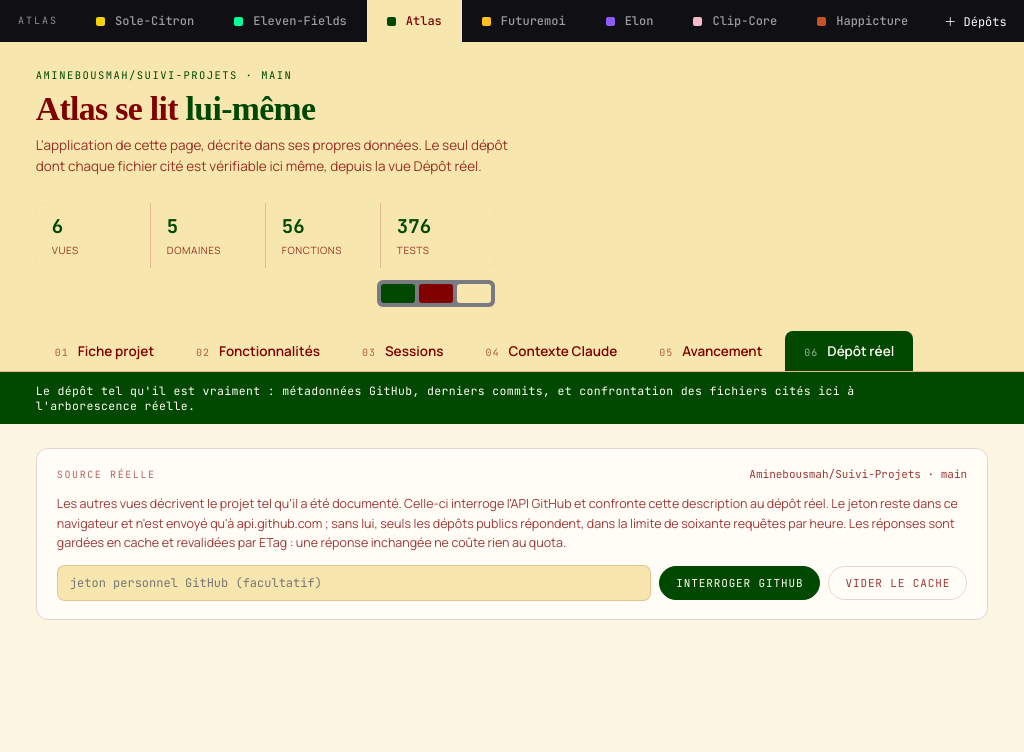
Scenario: vue Dépôt réel › montre ce que GitHub répond
Click the button "Interroger GitHub" at (740, 584), box [659,566,820,600]
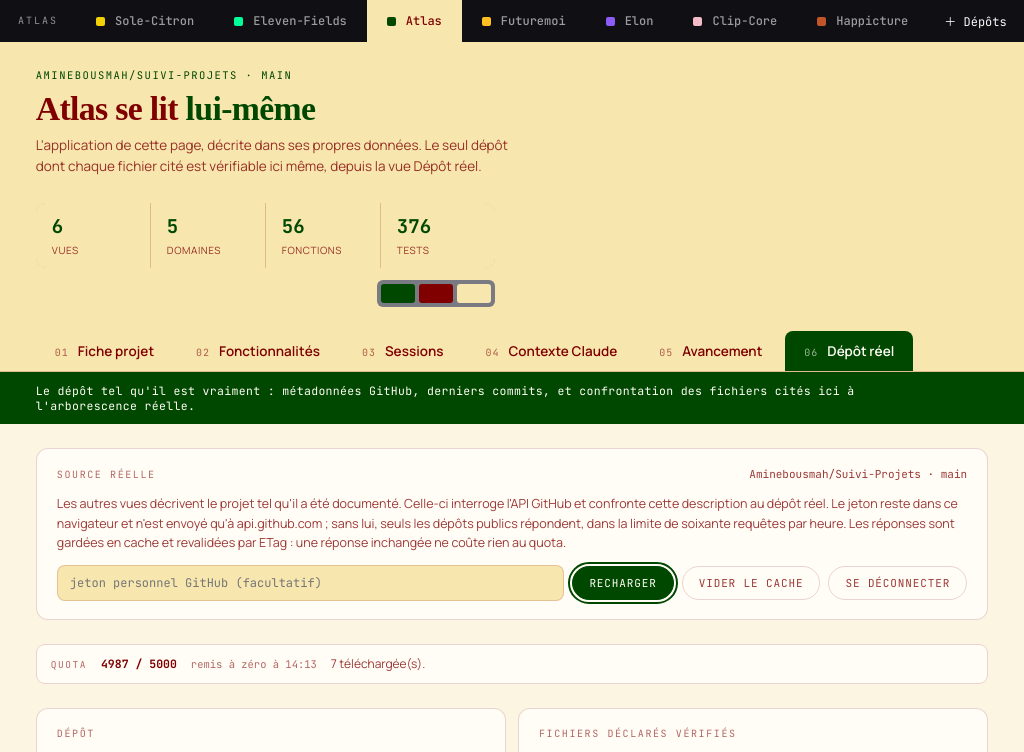
expect the text "4987 / 5000" is shown: met, box [101,656,177,672]
